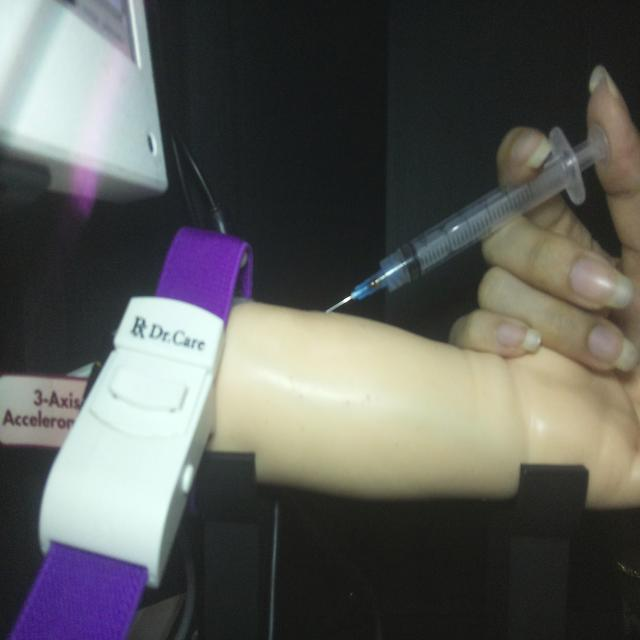20 degrees: (323, 118, 611, 316)
